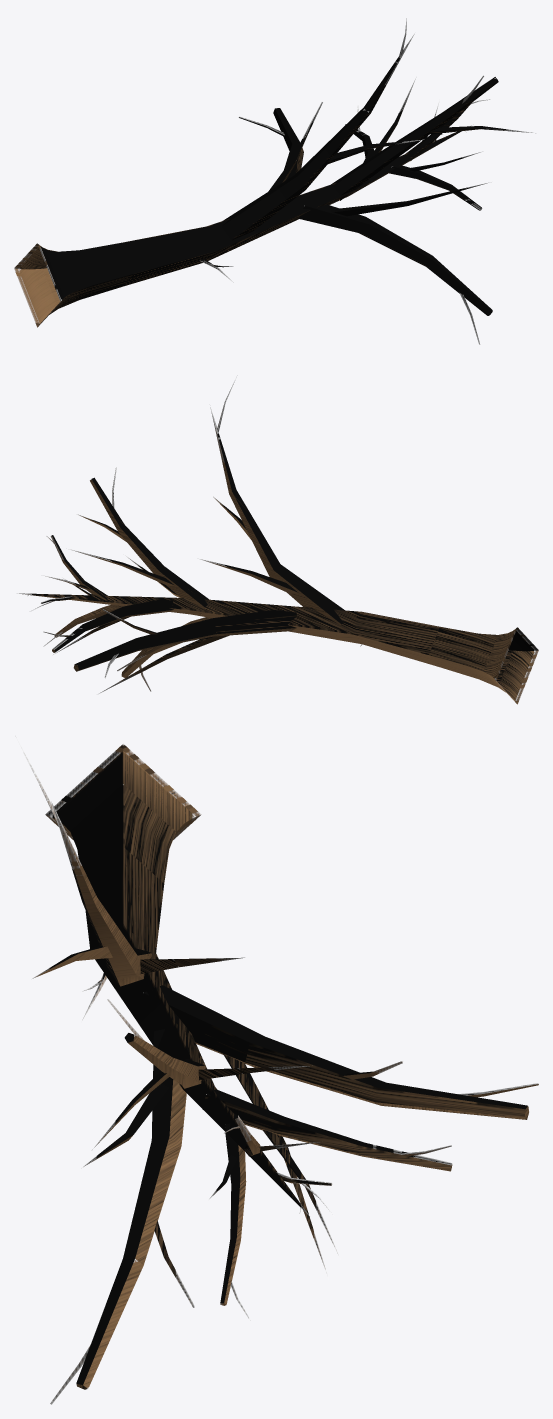
File: tree.fbx
The picture shows the model from 3 angles, top to bottom: view 1: azimuth 30°, elevation 25°; view 2: azimuth 150°, elevation 25°; view 3: azimuth 270°, elevation 25°; orthographic projection. The views are drawn at different scales.
Visible parts, largest first — view 1: Tree; view 2: Tree; view 3: Tree.
Part boxes in pixels (x1,y1,x2,y2): Tree: (14,18,536,344); Tree: (17,375,538,704); Tree: (15,736,538,1404).
Size of the model in its own units: 6349 by 4424 by 3493.
1 material, 1 textured.
